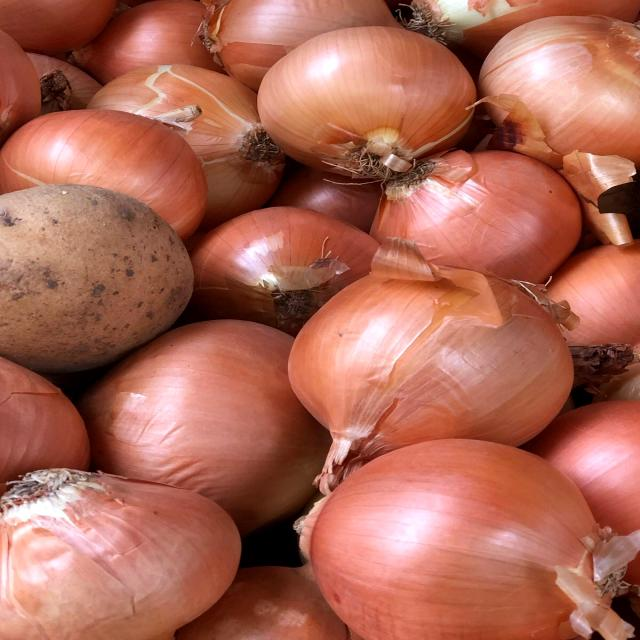onion: (276, 255, 593, 479), (2, 469, 240, 639), (256, 22, 488, 185), (355, 145, 596, 289)
potato: (2, 179, 202, 377)
